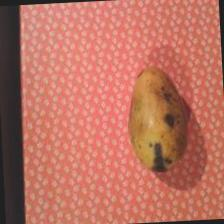Mango Overripe: (128, 58, 191, 180)
